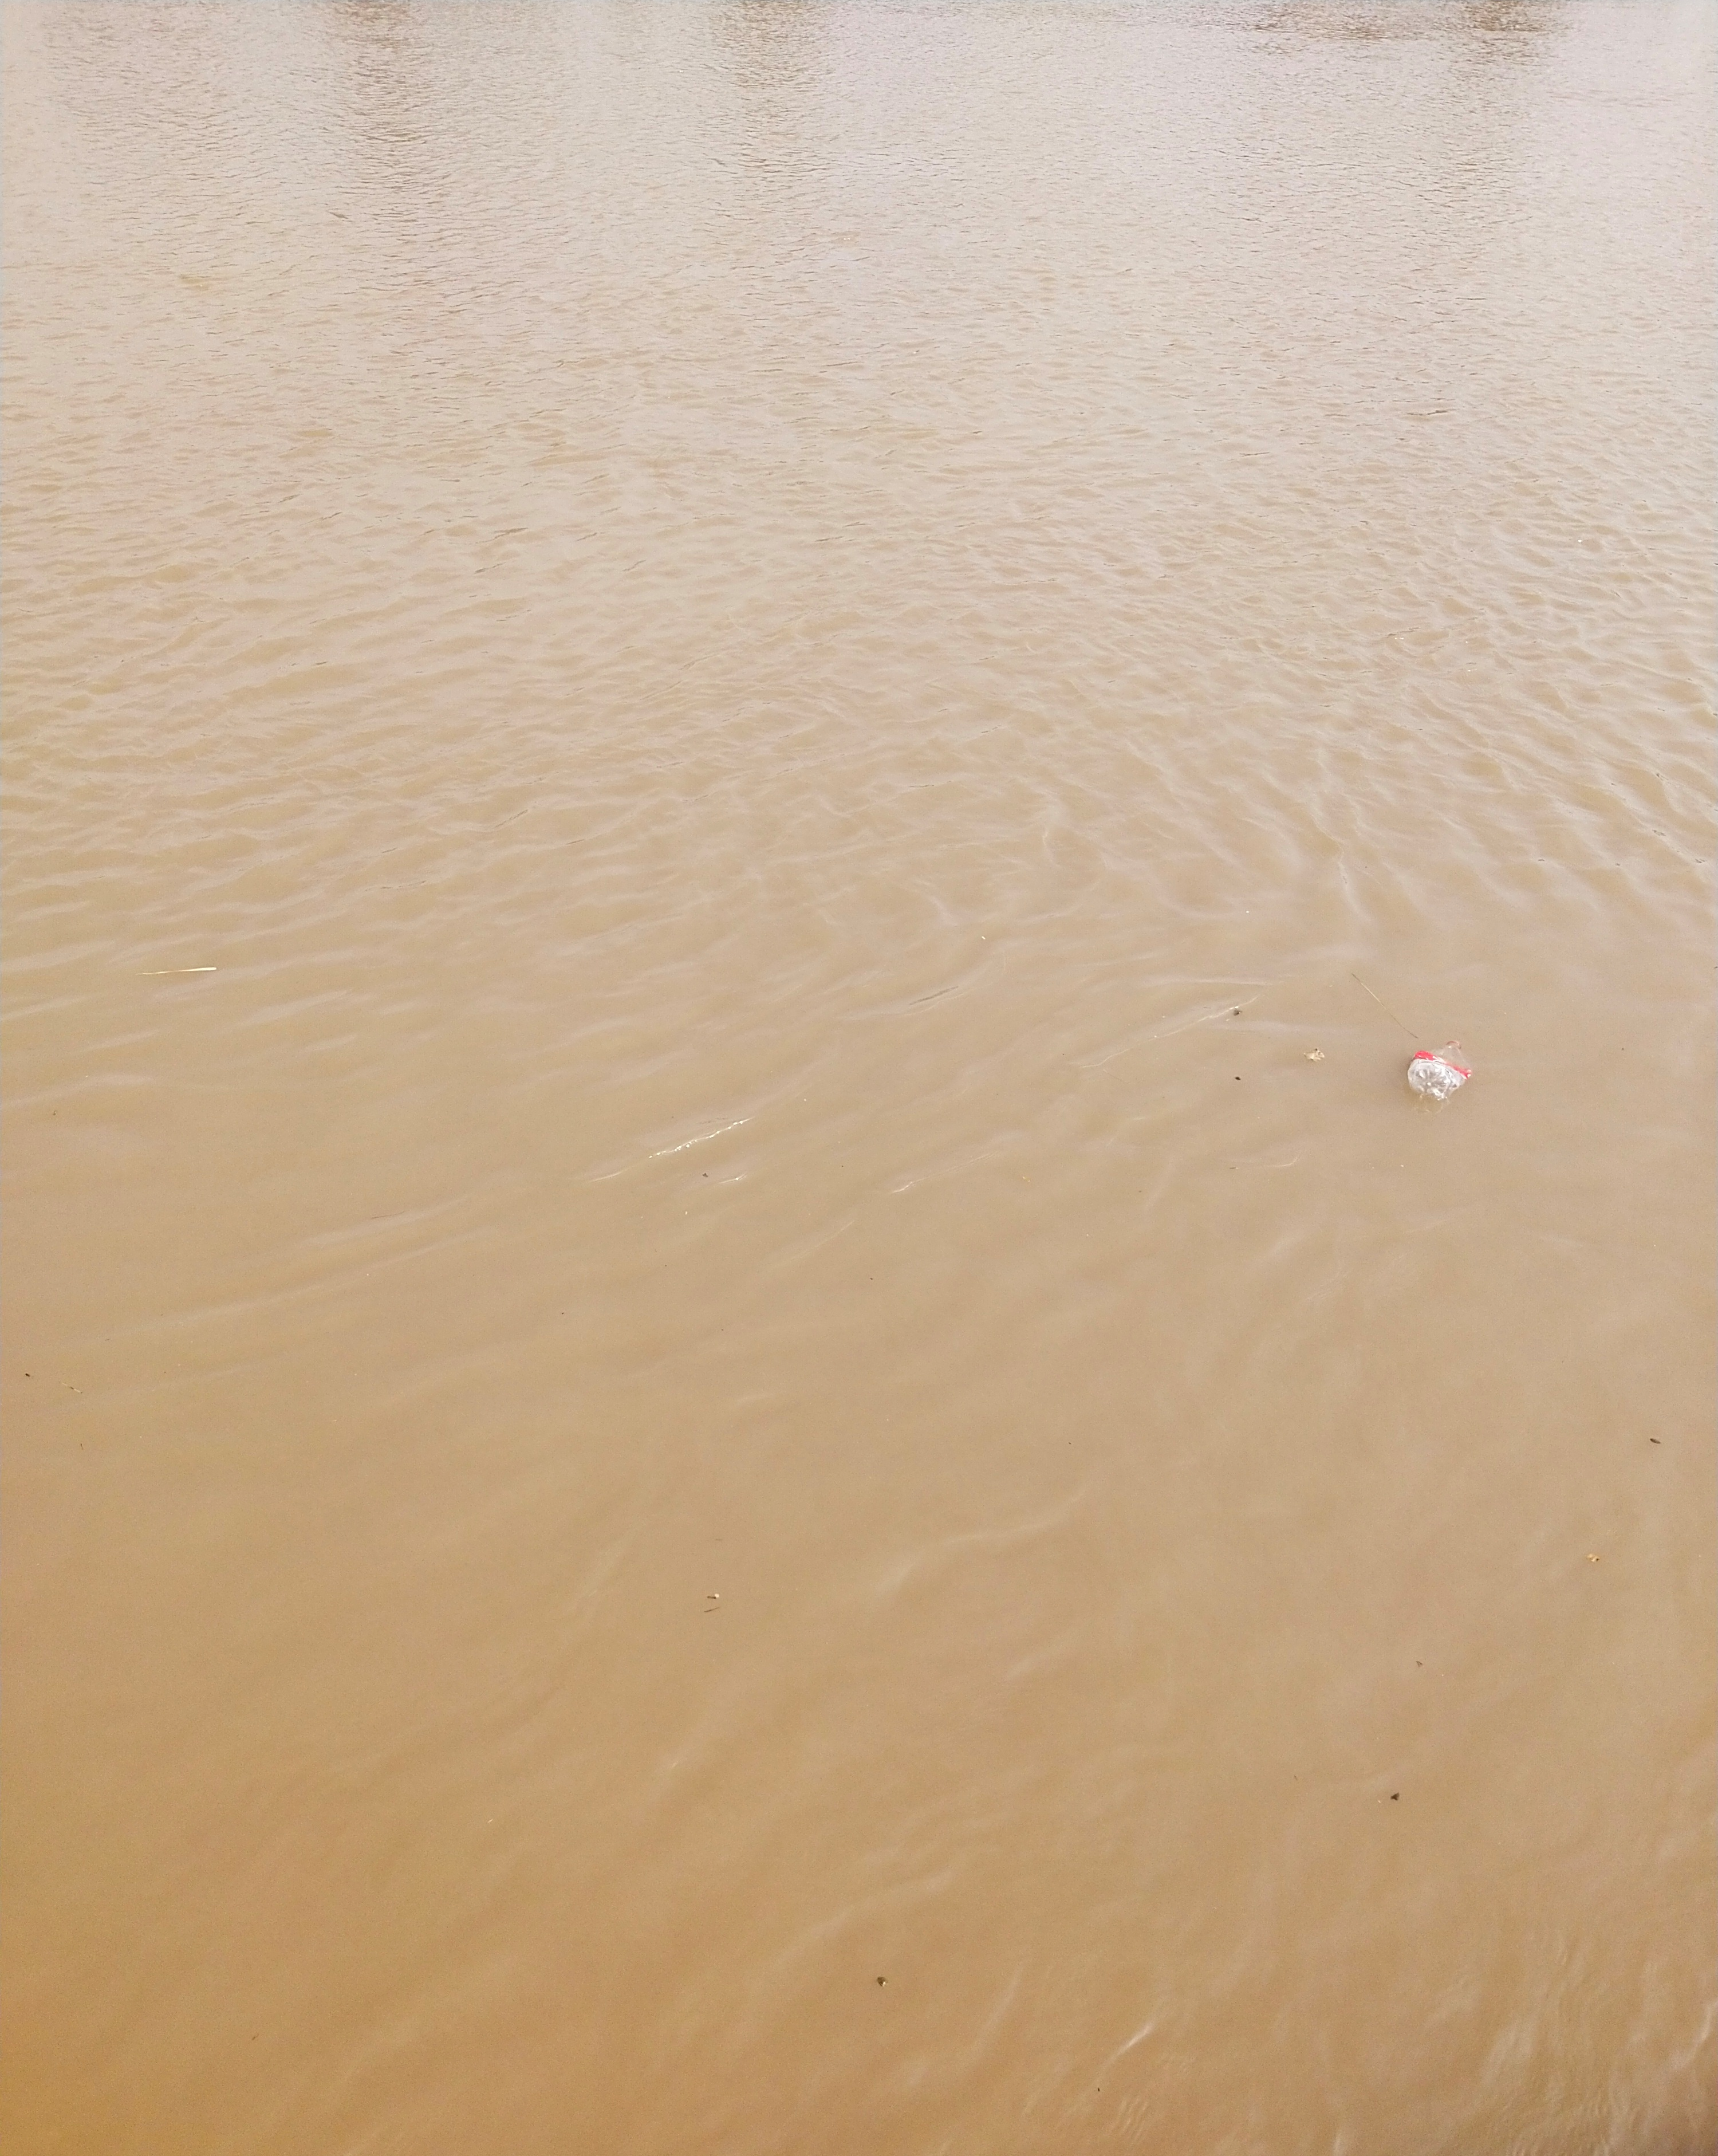Plastic Bottle: (1406, 1039, 1473, 1097)
